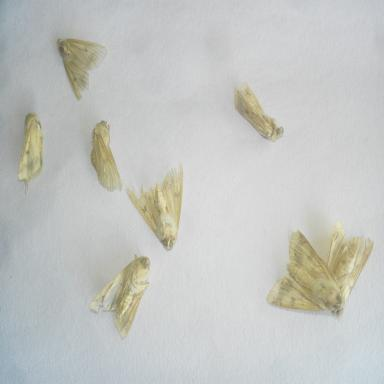abw: (263, 224, 347, 318), (87, 252, 154, 342), (123, 160, 186, 252), (321, 228, 377, 320), (230, 75, 288, 145), (54, 33, 110, 105), (87, 114, 125, 196), (14, 109, 48, 198)
